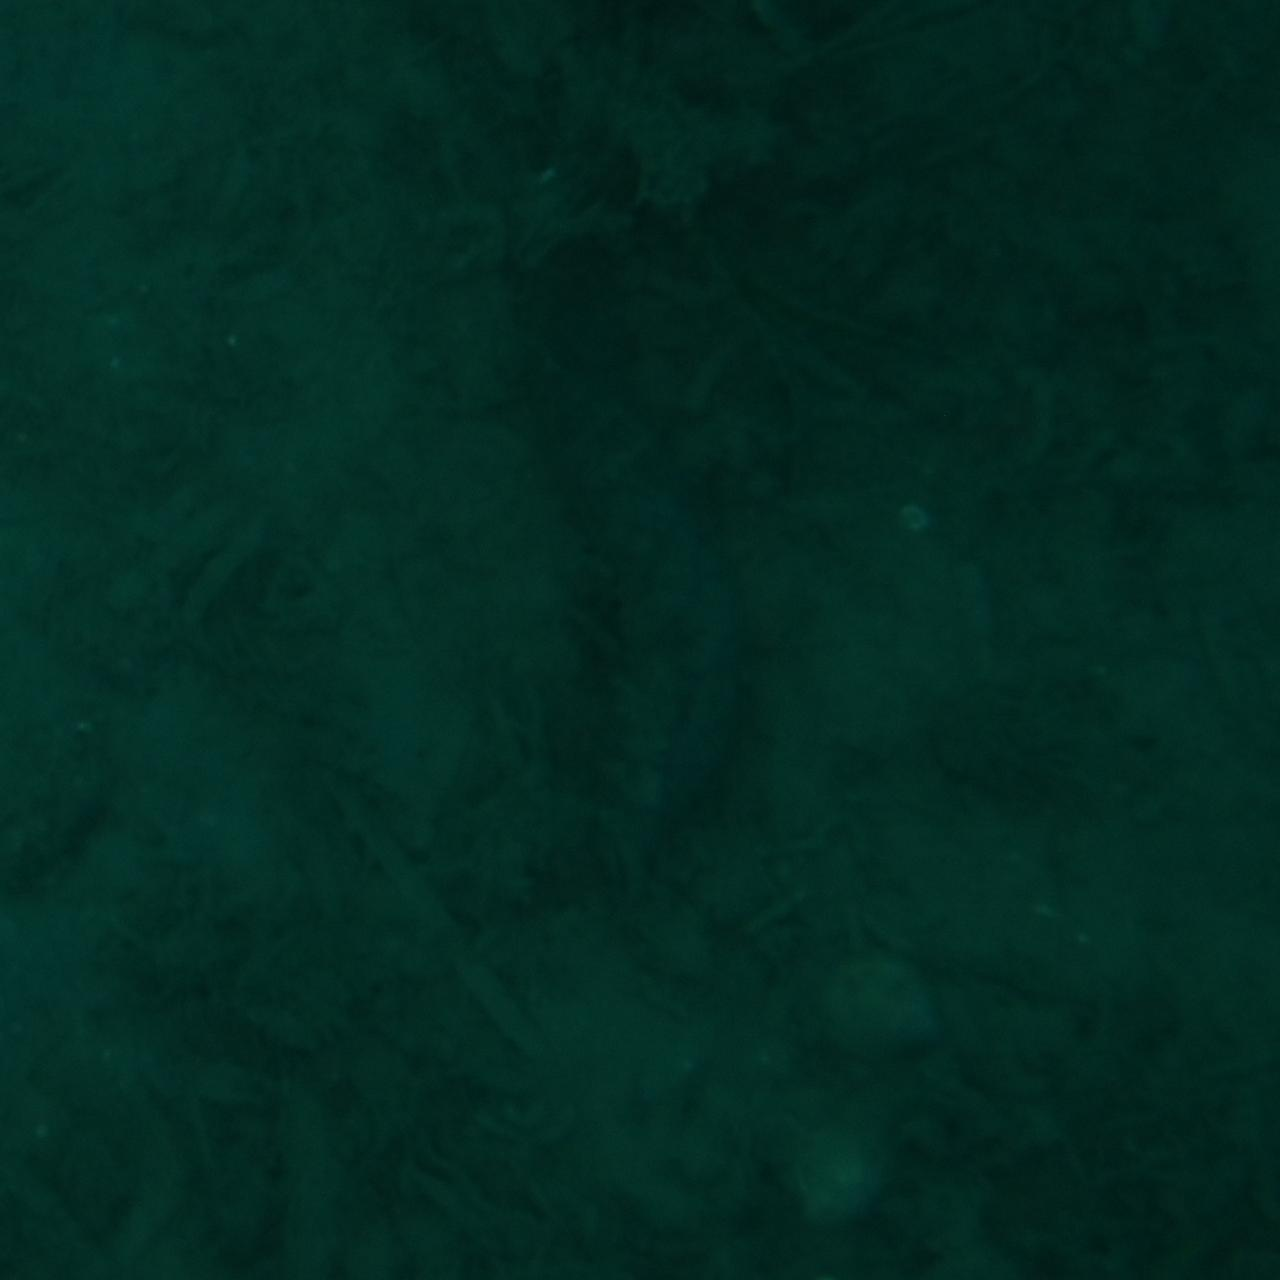Holothuria tubulosa: (508, 338, 772, 942)
